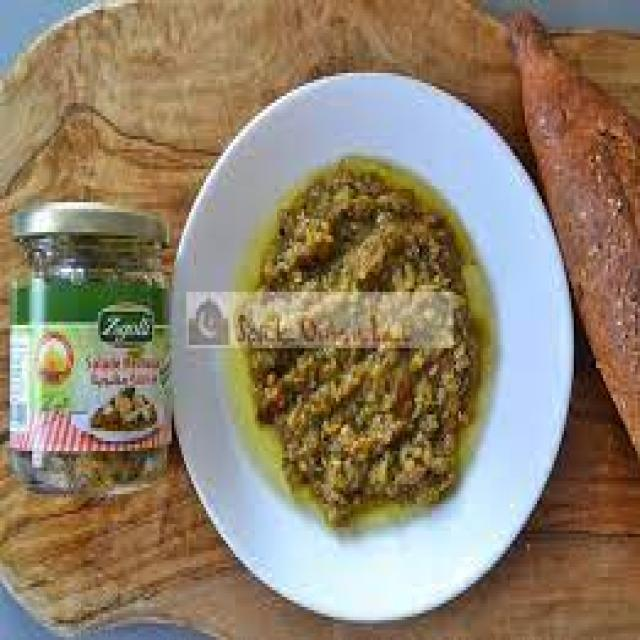Salade mechweya: (211, 116, 564, 526)
